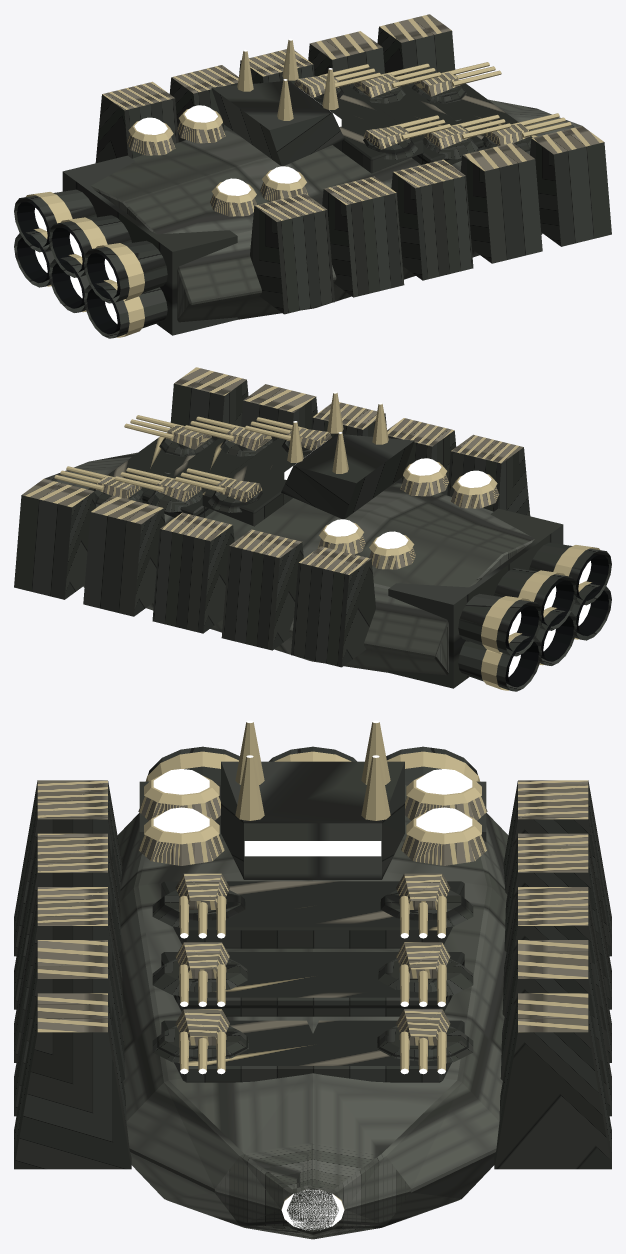
Rendered from dreadnought.glb.
3 renders of one model, top to bottom at view 1: azimuth 30°, elevation 25°; view 2: azimuth 150°, elevation 25°; view 3: azimuth 270°, elevation 25°, orthographic. The views are drawn at different scales.
Parts seen in each view (by area): view 1: hull_body, engine_block, weapon_turrets, sensor_tower, shield_domes; view 2: hull_body, engine_block, weapon_turrets, sensor_tower, shield_domes; view 3: hull_body, weapon_turrets, sensor_tower, shield_domes, engine_block.
Boxes of the visible parts, left/top/right/bottom form: hull_body: left=91, top=14, right=611, bottom=322; engine_block: left=14, top=155, right=237, bottom=338; weapon_turrets: left=294, top=62, right=571, bottom=159; sensor_tower: left=211, top=38, right=344, bottom=166; shield_domes: left=126, top=105, right=307, bottom=216; hull_body: left=14, top=367, right=534, bottom=675; engine_block: left=388, top=508, right=611, bottom=691; weapon_turrets: left=54, top=415, right=331, bottom=512; sensor_tower: left=281, top=391, right=414, bottom=519; shield_domes: left=318, top=458, right=499, bottom=569; hull_body: left=14, top=780, right=611, bottom=1239; weapon_turrets: left=152, top=873, right=473, bottom=1230; sensor_tower: left=221, top=720, right=404, bottom=879; shield_domes: left=138, top=769, right=487, bottom=865; engine_block: left=139, top=746, right=486, bottom=842.
Bounding box in the file's own units: 80 × 31.97 × 50.87.
Materials: 1 (1 with a texture image).
